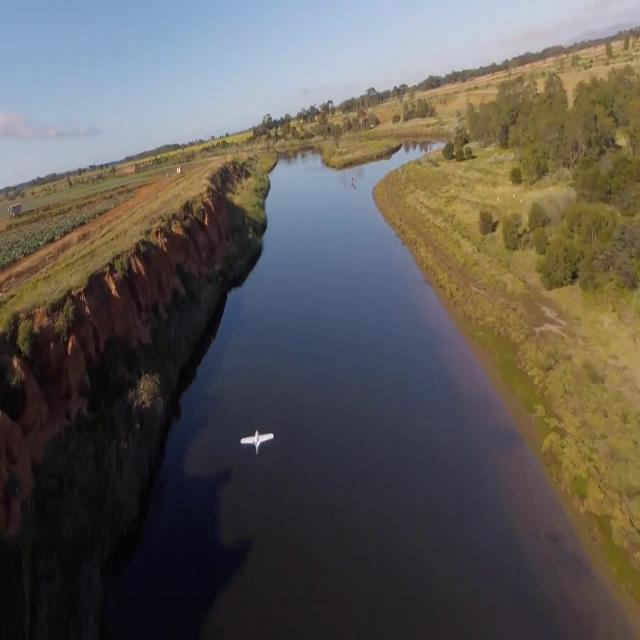iha: (238, 425, 274, 451)
